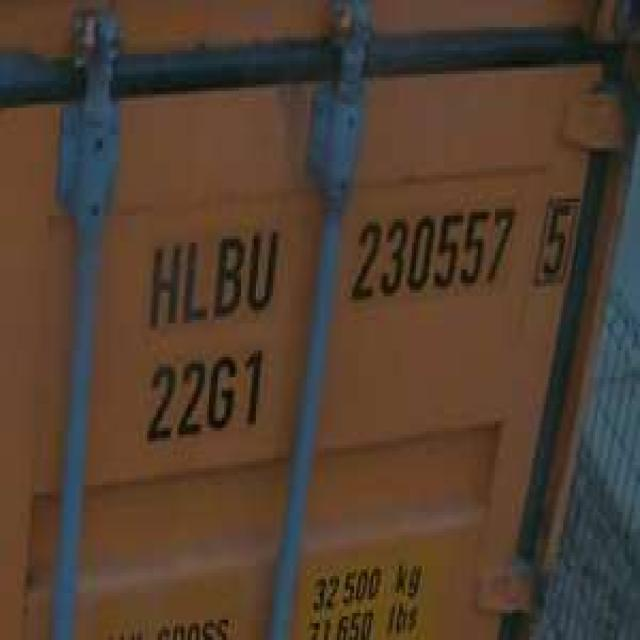dv: (531, 182, 580, 290)
owner: (141, 216, 284, 330)
serial: (344, 196, 518, 306)
size: (139, 340, 271, 448)
